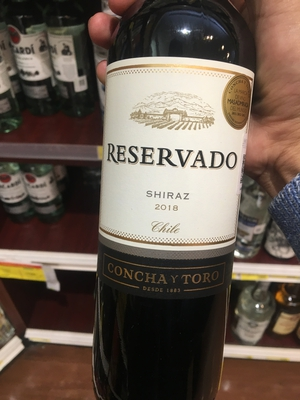reservado shiraz: (91, 3, 265, 393)
